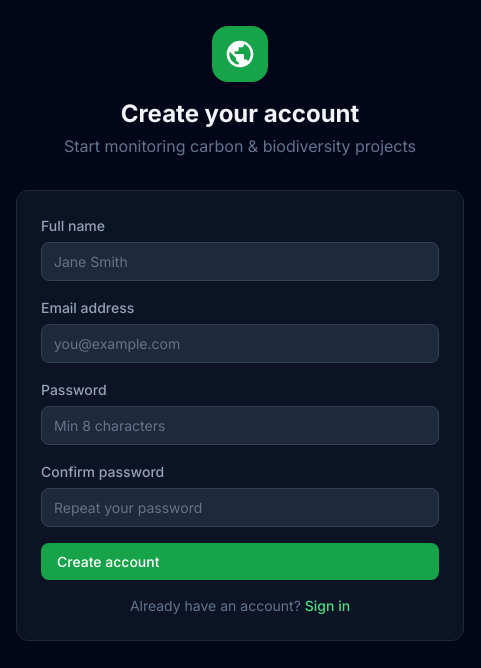
Register Page › shows error when passwords do not match
Type "Test User" into the field labelled "Full name" at [240, 261], box [41,242,439,280]
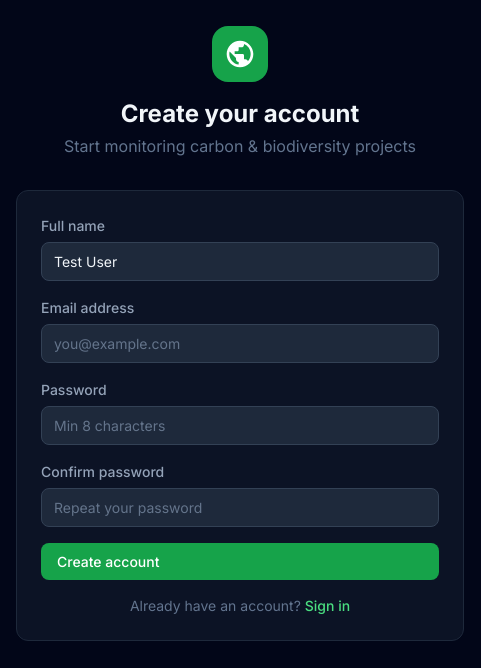
Type "test@example.com" into the field labelled "Email address" at [240, 343], box [41,324,439,362]
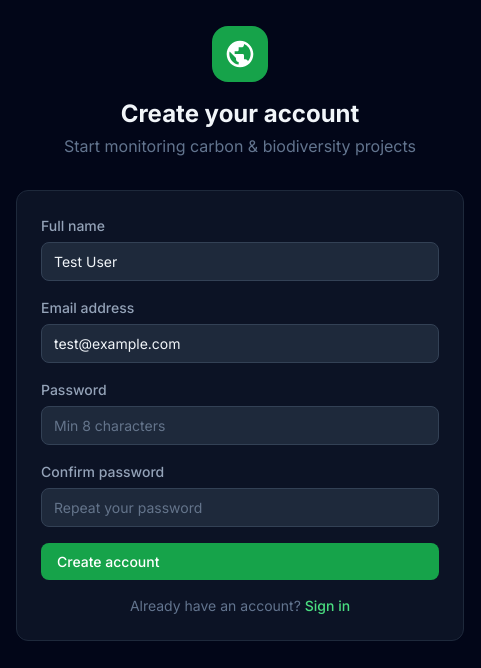
Type "SecurePass123" into the password field labelled "Password" at [240, 425], box [41,406,439,444]
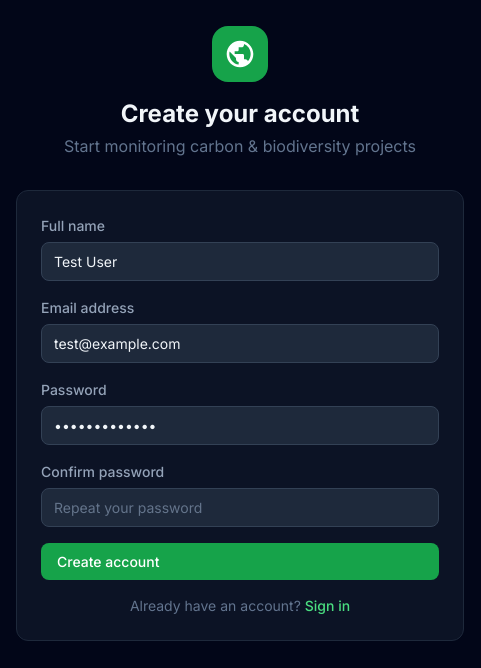
Type "DifferentPass123" into the password field labelled "Confirm password" at [240, 507], box [41,488,439,526]
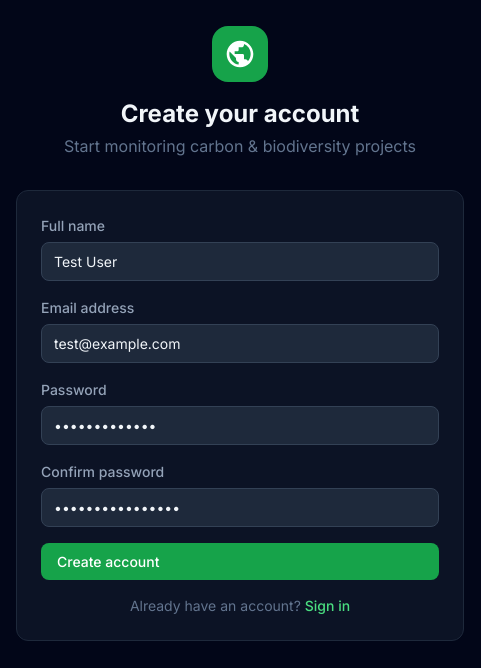
Click the button "Create account" at [108, 561], box [41,542,439,580]
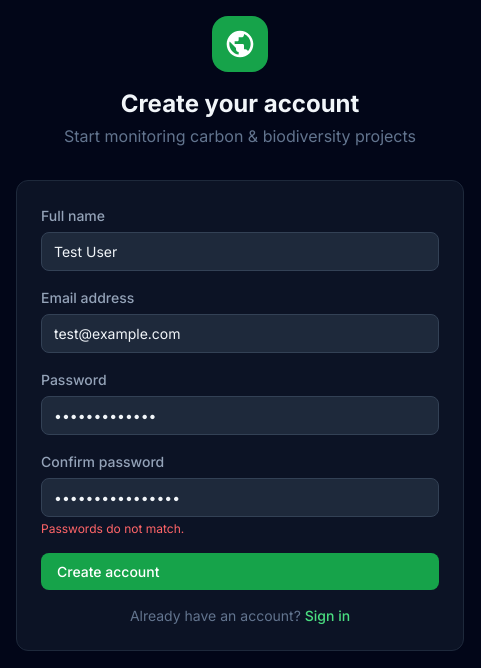
Expected: the text "Passwords do not match." is shown, [41,520,184,536]
